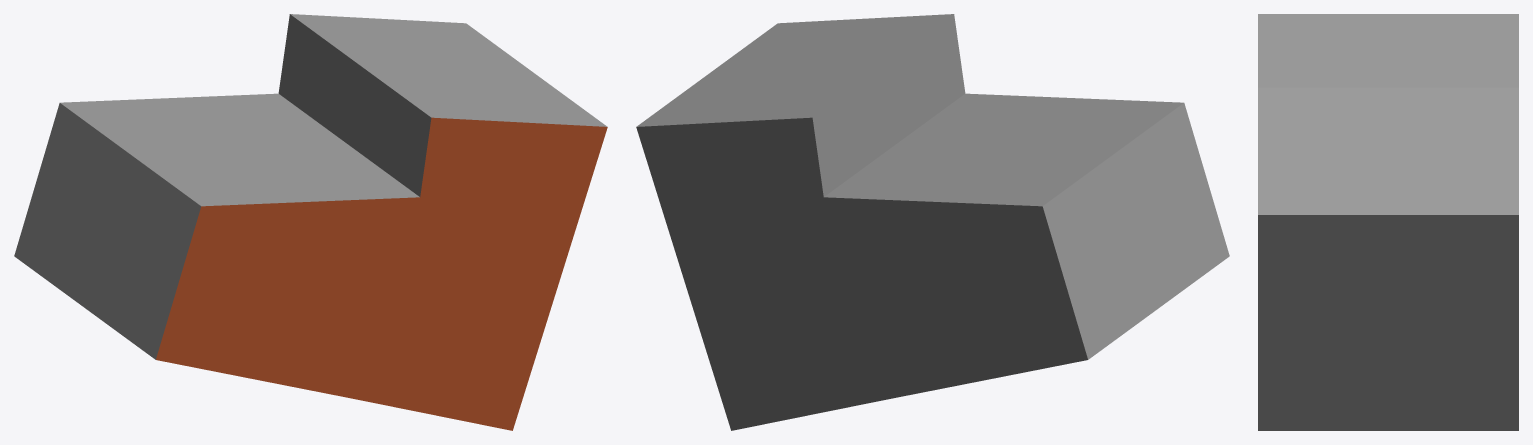
The model's file is construction_5110_assumed_A_Casa_h6m.obj.
The picture shows the model from 3 angles, left to right: view 1: azimuth 30°, elevation 25°; view 2: azimuth 150°, elevation 25°; view 3: azimuth 270°, elevation 25°; orthographic projection. The views are drawn at different scales.
Parts seen in each view (by area): view 1: construction_5110_assumed_A_Casa; view 2: construction_5110_assumed_A_Casa; view 3: construction_5110_assumed_A_Casa.
Part boxes in pixels (x1=…): construction_5110_assumed_A_Casa: x1=14, y1=14, x2=607, y2=430; construction_5110_assumed_A_Casa: x1=636, y1=14, x2=1229, y2=430; construction_5110_assumed_A_Casa: x1=1258, y1=14, x2=1518, y2=430.
Bounding box in the file's own units: 11.06 × 7.79 × 6.
